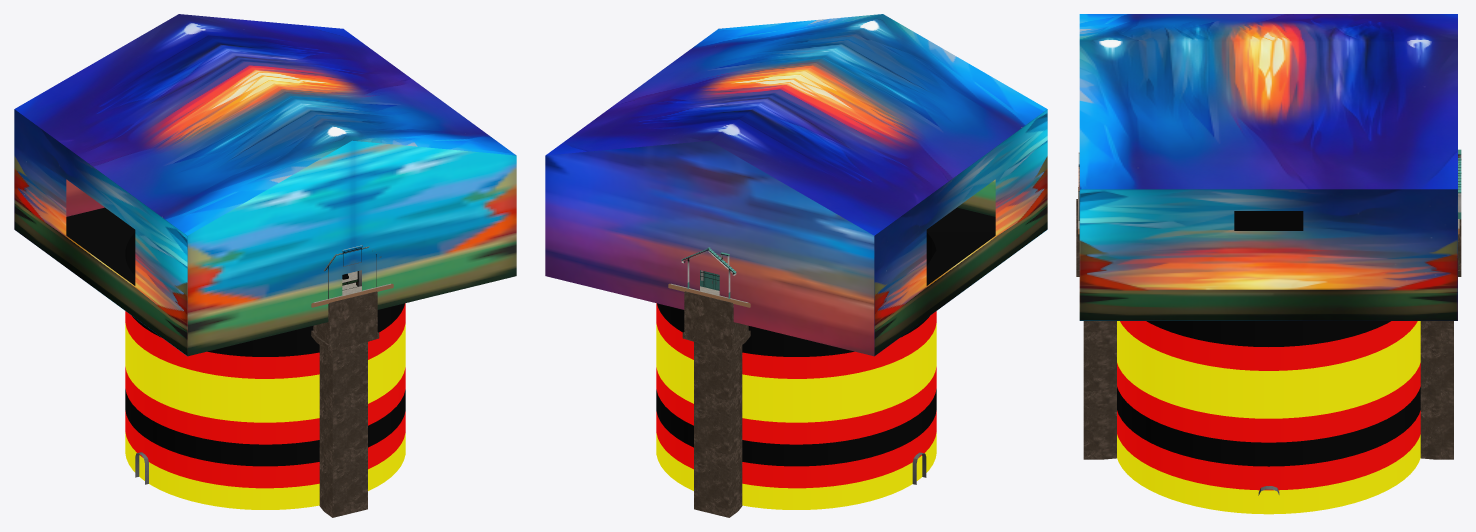
The model's file is JumpRopeDollsVD1.fbx.
3 views of the same model, side by side, from view 1: azimuth 30°, elevation 25°; view 2: azimuth 150°, elevation 25°; view 3: azimuth 270°, elevation 25° (orthographic). The views are drawn at different scales.
Parts seen in each view (by area): view 1: Object_15, Object_16, Object_13, Object_14, Object_10, Object_6; view 2: Object_15, Object_16, Object_13, Object_14, Object_10, Object_9, Object_29.001; view 3: Object_16, Object_15, Object_14, Object_13, Object_10, Object_6, Object_9, Object_20.
Boxes of the visible parts, box(x1,y1,x2,y2) form: Object_15: box(14, 109, 516, 356); Object_16: box(14, 14, 516, 235); Object_13: box(125, 303, 405, 488); Object_14: box(125, 323, 405, 509); Object_10: box(66, 207, 405, 466); Object_6: box(311, 291, 379, 517); Object_15: box(545, 109, 1047, 356); Object_16: box(545, 14, 1047, 235); Object_13: box(656, 303, 936, 488); Object_14: box(656, 323, 936, 509); Object_10: box(656, 207, 995, 466); Object_9: box(682, 291, 750, 517); Object_29.001: box(681, 249, 736, 298); Object_16: box(1079, 14, 1457, 189); Object_15: box(1079, 189, 1457, 320); Object_14: box(1117, 321, 1420, 514); Object_13: box(1117, 321, 1420, 490); Object_10: box(1117, 321, 1420, 466); Object_6: box(1076, 199, 1116, 459); Object_9: box(1420, 219, 1461, 459); Object_20: box(1234, 211, 1303, 230).
Size of the model in its own units: 9690 by 10516 by 8986.
40 materials, 11 textured.
